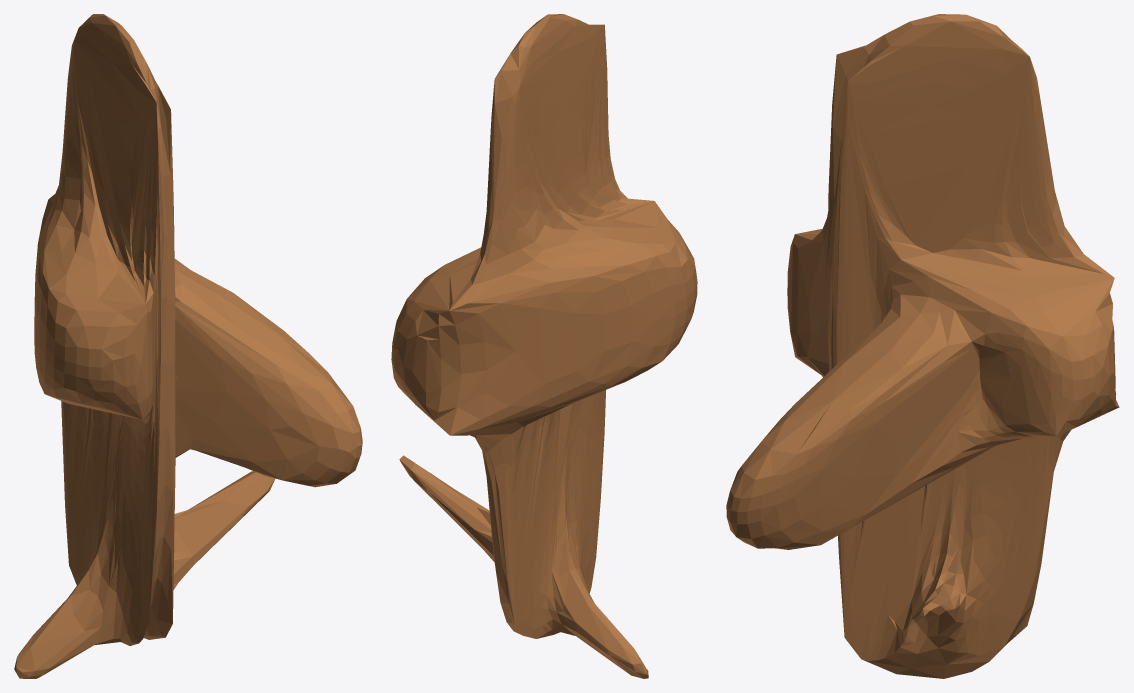
The picture shows the model from 3 angles, left to right: view 1: azimuth 30°, elevation 25°; view 2: azimuth 150°, elevation 25°; view 3: azimuth 270°, elevation 25°; orthographic projection. The views are drawn at different scales.
Visible parts, largest first — view 1: 346_Cube.1411; view 2: 346_Cube.1411; view 3: 346_Cube.1411.
Part boxes in pixels (<box>): 346_Cube.1411: <box>14,14,362,678</box>; 346_Cube.1411: <box>391,14,697,678</box>; 346_Cube.1411: <box>726,14,1119,678</box>.
Bounding box in the file's own units: 4.98 × 11.78 × 6.14.
